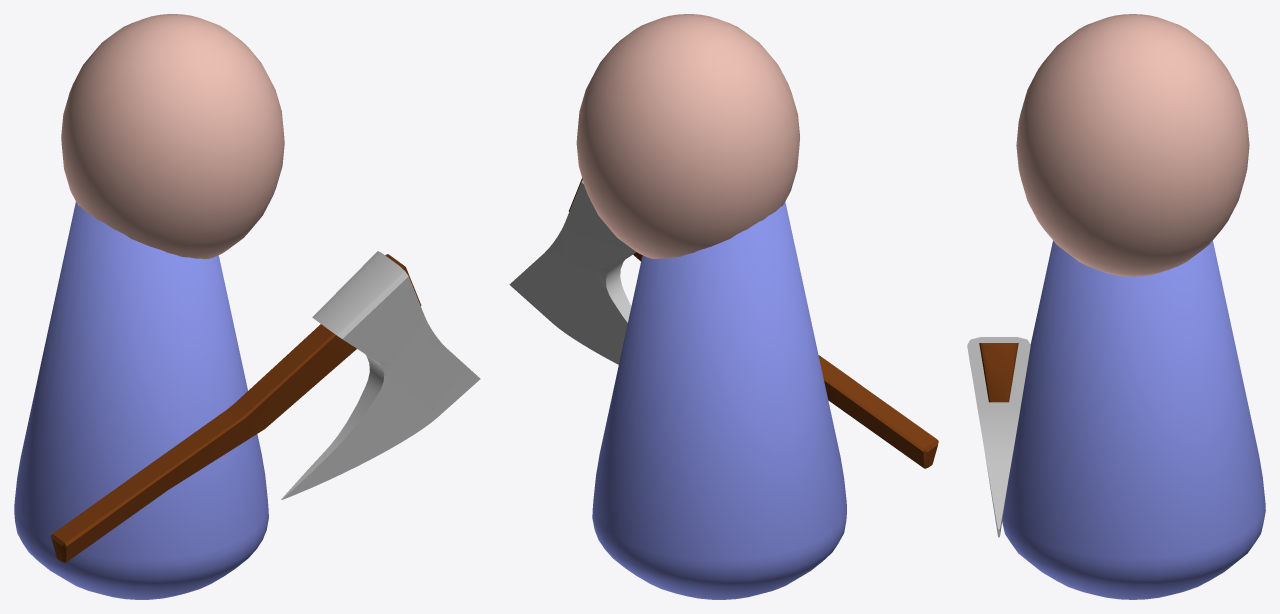
The model's file is Bucheron.fbx.
3 views of the same model, side by side, from view 1: azimuth 30°, elevation 25°; view 2: azimuth 150°, elevation 25°; view 3: azimuth 270°, elevation 25° (orthographic). The views are drawn at different scales.
Parts seen in each view (by area): view 1: Sphere, Cube; view 2: Sphere, Cube; view 3: Sphere, Cube.
Part boxes in pixels (x1,y1,x2,y2): Sphere: [14, 14, 284, 599]; Cube: [51, 251, 480, 562]; Sphere: [576, 14, 846, 599]; Cube: [509, 178, 938, 468]; Sphere: [1002, 14, 1265, 599]; Cube: [967, 337, 1030, 537].
Bounding box in the file's own units: 217 × 270 × 127.
